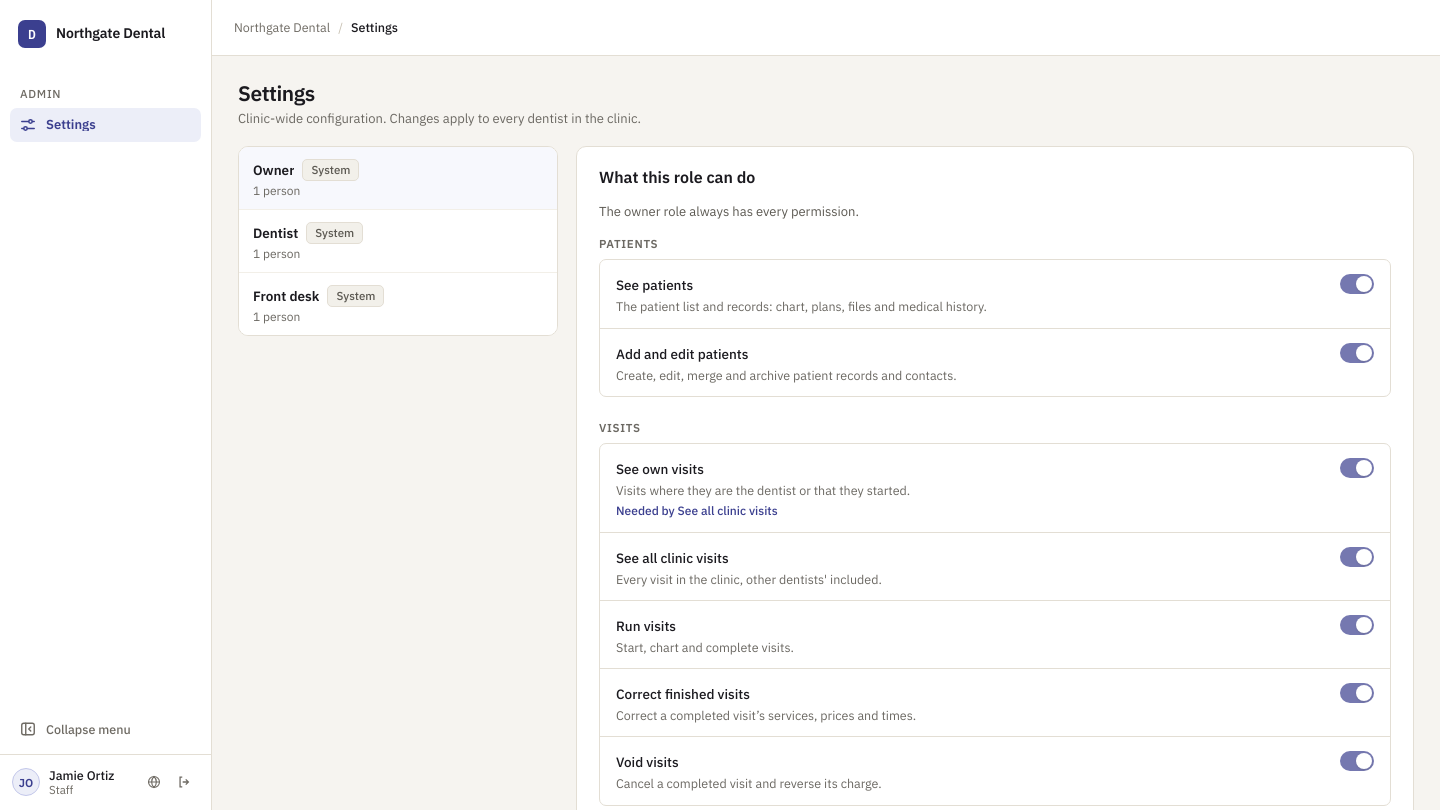
Test: Settings (ADR-0055) › shows the owner Dental chart, Staff and Roles; a role reader Roles alone, read-only
What coordinates should you click on to do the following:
click the button "Dentist System 1 person"
I would click on:
 (276, 233)
Its box is [253,222,543,260].
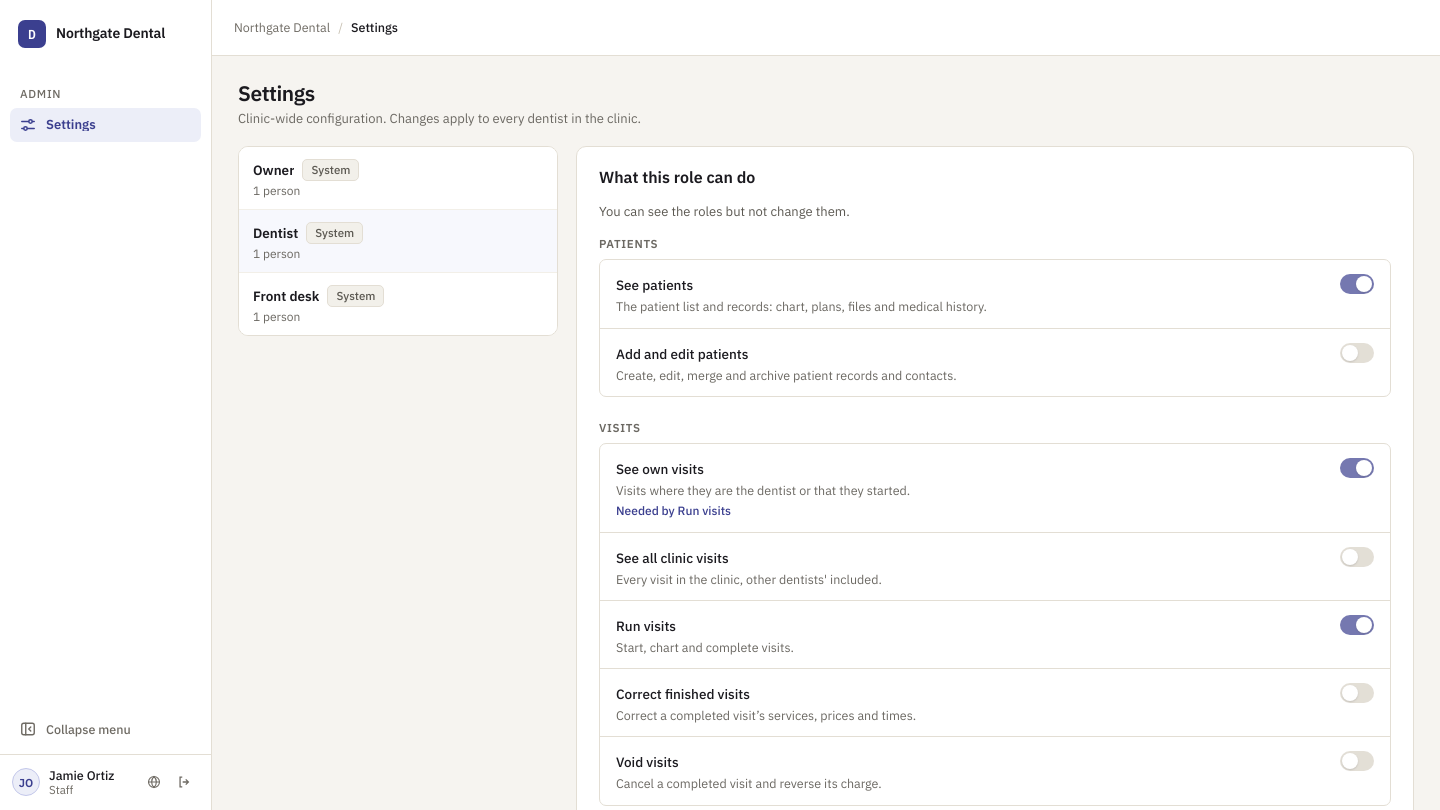
Expected: the text "You can see the roles but not change them." is shown, [599,203,850,220]
